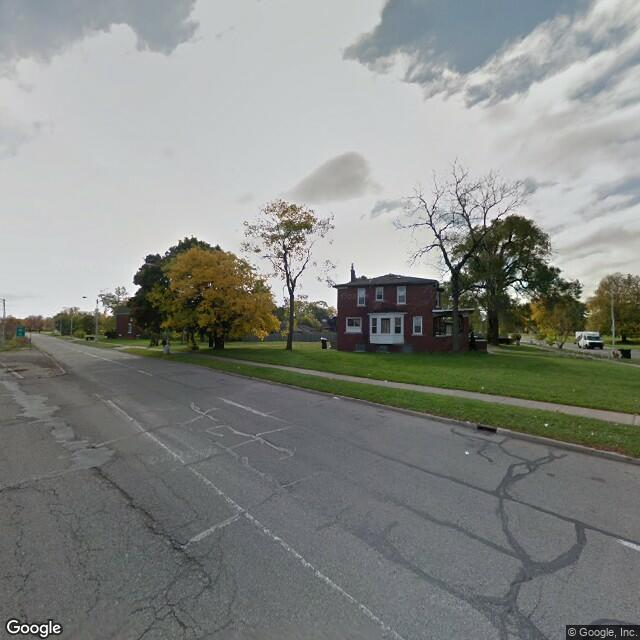litter: (461, 440, 480, 461), (539, 417, 555, 435), (587, 424, 596, 436)
